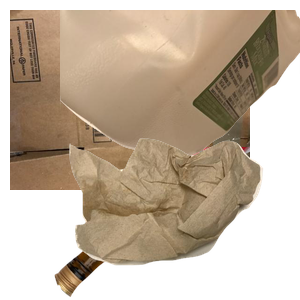cardboard: (10, 10, 250, 190)
glass: (52, 147, 292, 300)
plastic: (60, 10, 300, 160)
trash: (67, 136, 300, 300)
